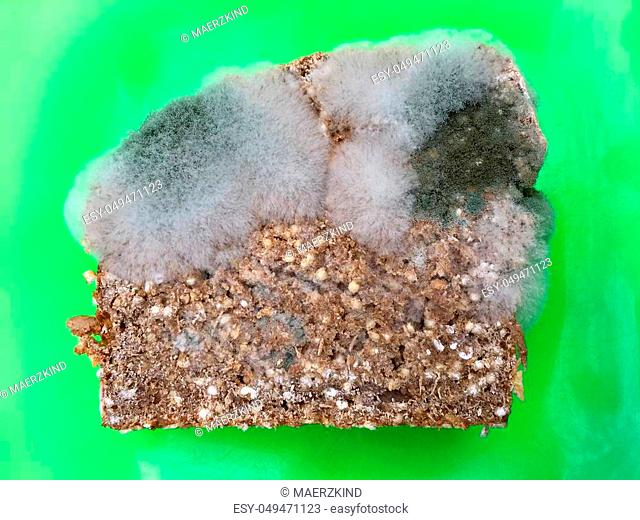Mucor: (167, 302, 375, 428), (76, 168, 250, 270), (418, 99, 516, 227), (152, 101, 316, 173), (478, 230, 552, 325), (426, 330, 495, 391), (244, 60, 294, 106)
